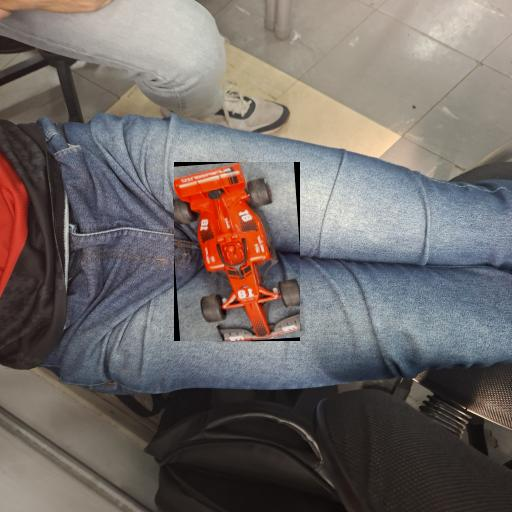carro: (173, 163, 299, 340)
